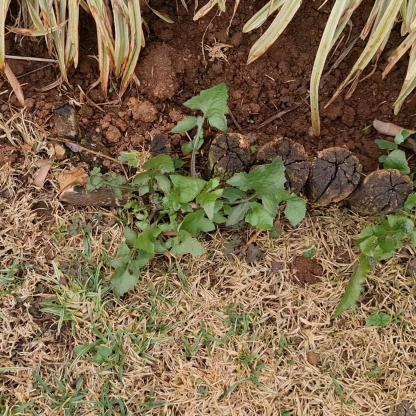Weeds: (84, 82, 308, 298), (333, 131, 415, 330)
